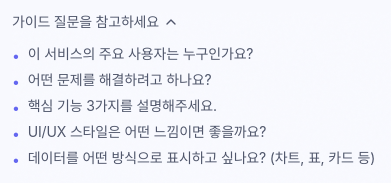
Test case: GuideQuestions › 토글 버튼 클릭 시 질문 목록이 닫힌다
This screenshot has width=391, height=183.
Step 1. Click the button "가이드 질문을 참고하세요" → point(96, 22), box x1=12 y1=12 x2=179 y2=32
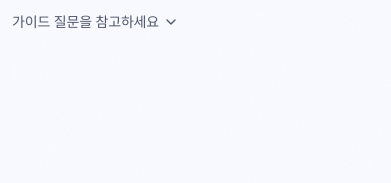
expect the button "이 서비스의 주요 사용자는 누구인가요?" is gone: met
